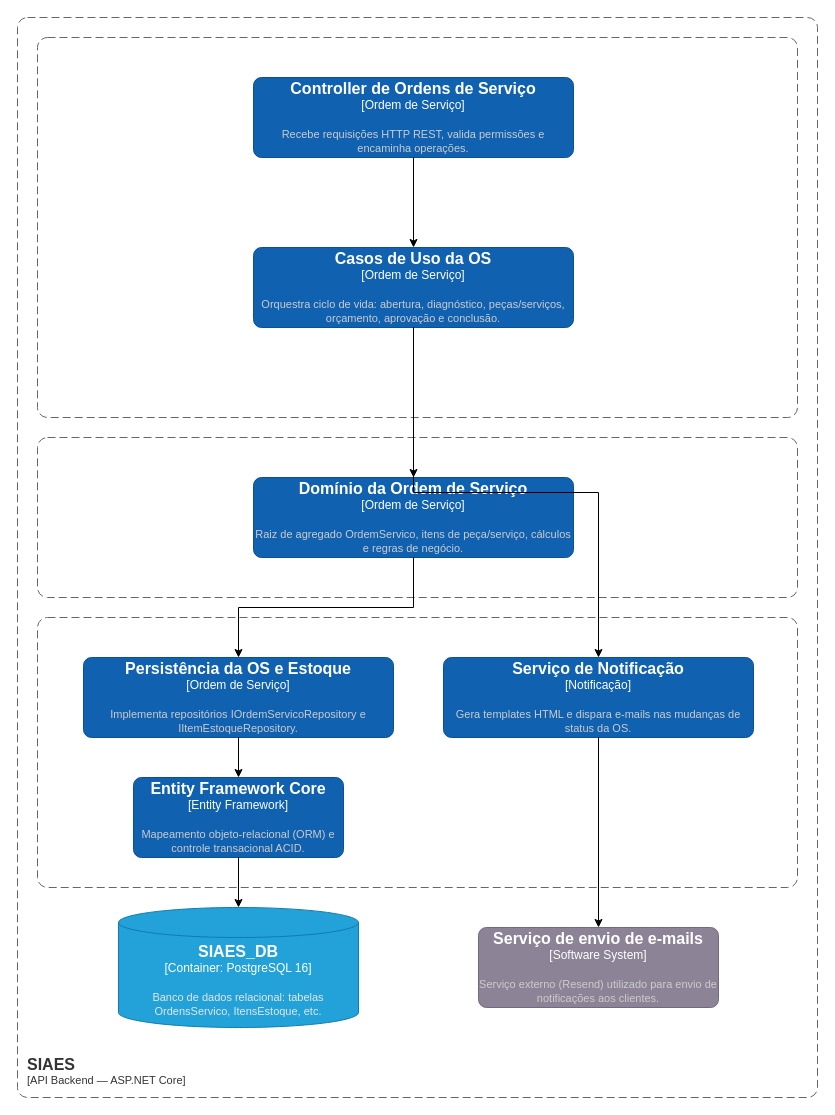
Image size: 835x1115. Some labels were removed from this diagram. Each missing label, with the box of its shape:
Camada Aplicação [Container]: (36, 36, 798, 418)
Camada Domínio [Container]: (36, 436, 798, 598)
Camada Infraestrutura [Container]: (36, 616, 798, 888)
